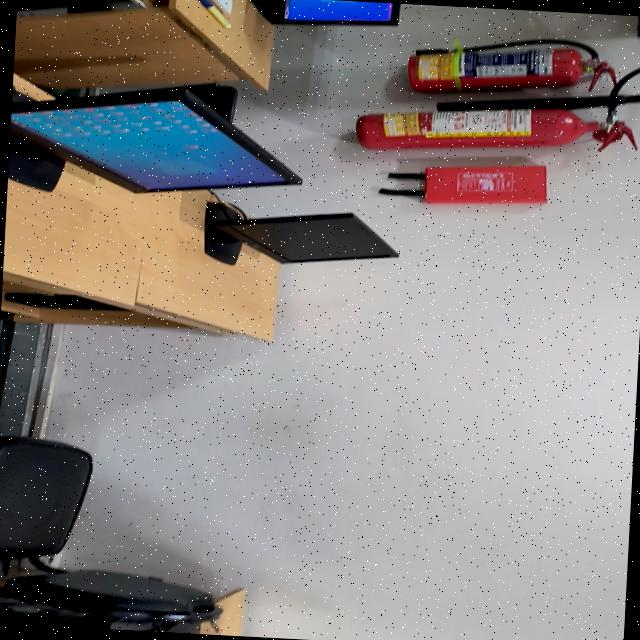Chair: (0, 436, 219, 632)
Cpu: (4, 293, 126, 310)
Fire Extinguisher: (355, 108, 635, 150), (407, 47, 614, 92)
Monitor: (9, 88, 301, 193), (203, 202, 397, 264), (250, 0, 400, 26)
